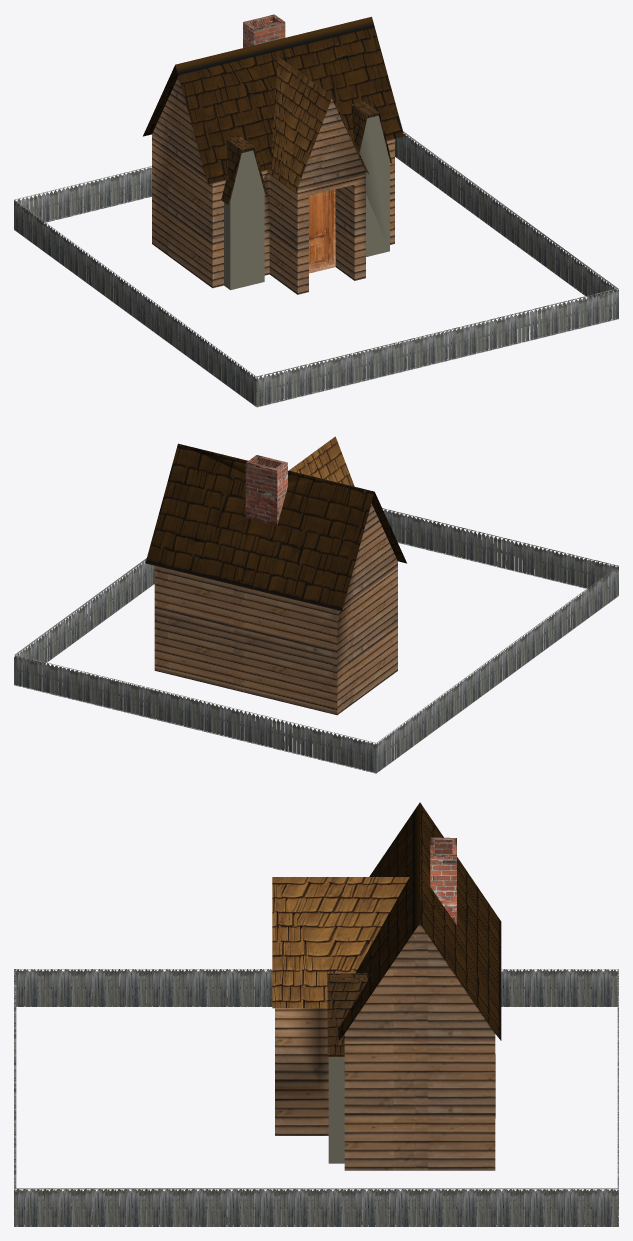
The model's file is house1_Fence.fbx.
The picture shows the model from 3 angles, top to bottom: view 1: azimuth 30°, elevation 25°; view 2: azimuth 150°, elevation 25°; view 3: azimuth 270°, elevation 25°; orthographic projection. The views are drawn at different scales.
Visible parts, largest first — view 1: House01, Box002; view 2: House01, Box002; view 3: House01, Box002.
Boxes of the visible parts, <box> form: House01: <box>143,14,404,294</box>; Box002: <box>14,131,618,407</box>; House01: <box>145,436,406,715</box>; Box002: <box>14,508,618,773</box>; House01: <box>272,802,501,1170</box>; Box002: <box>14,969,618,1226</box>.
Bounding box in the file's own units: 68.03 × 38.7 × 78.96.
2 materials, 2 textured.
